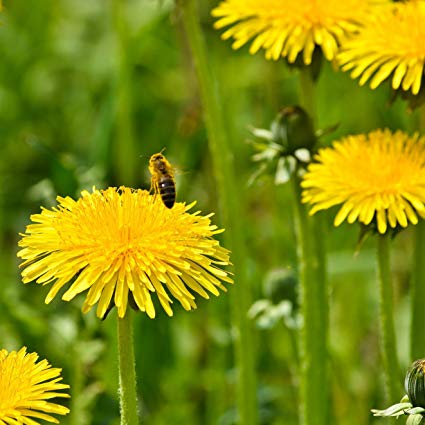dandelion: (40, 185, 225, 315), (211, 1, 420, 101), (306, 130, 425, 228), (1, 345, 71, 425)
